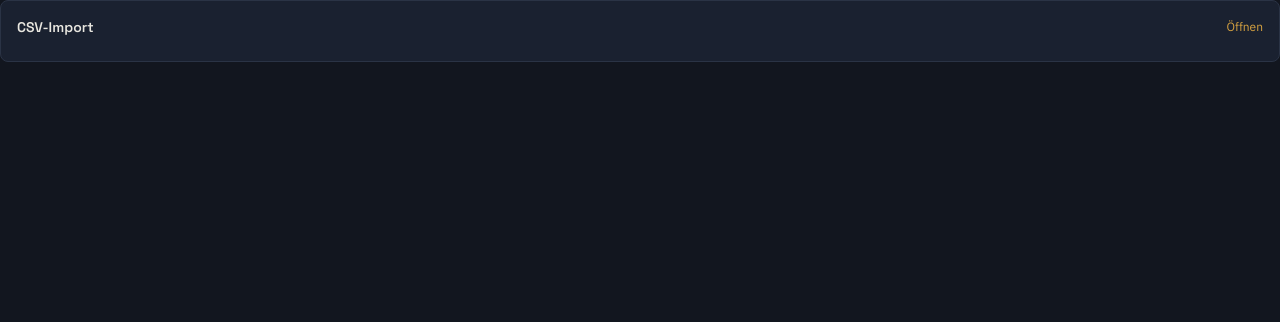
CsvImport › meldet unbrauchbare Eingaben, statt still nichts zu tun
Click the button "Öffnen" at coordinates (1245, 27), box [1226, 19, 1263, 35]
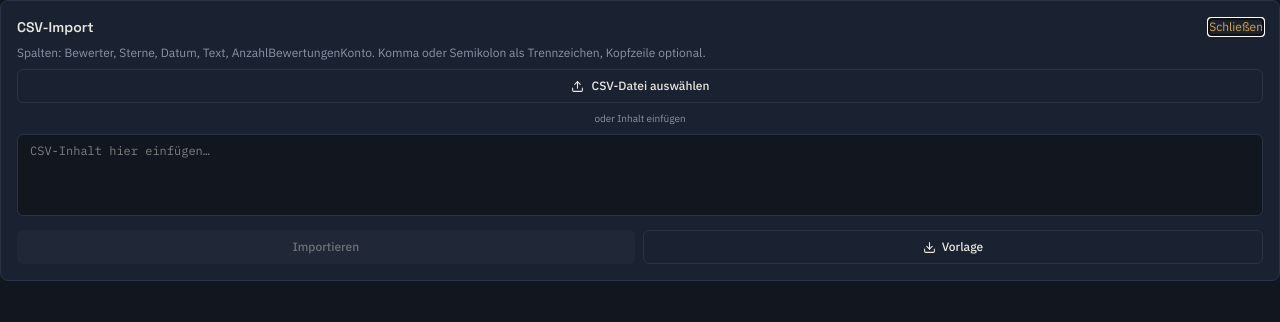
Type ",,,," into the text box labelled "CSV-Inhalt hier einfügen…" at coordinates (640, 175), box [17, 134, 1263, 216]
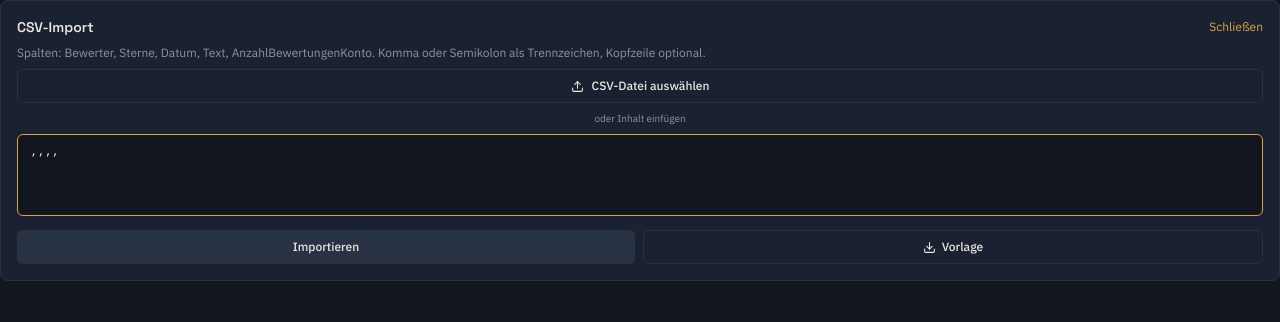
Click the button "Importieren" at coordinates (326, 247), box [17, 230, 635, 264]
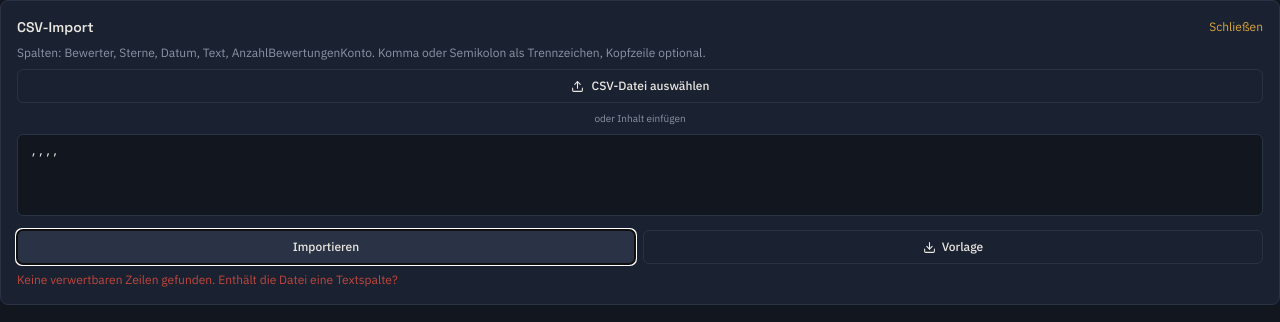
Result: the message shows "Keine verwertbaren Zeilen" at [17, 272, 398, 287]
